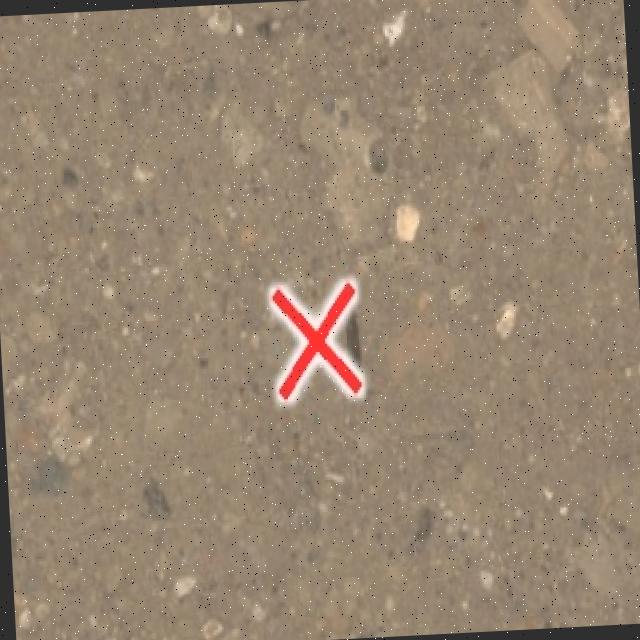x_marker: (271, 282, 361, 398)
